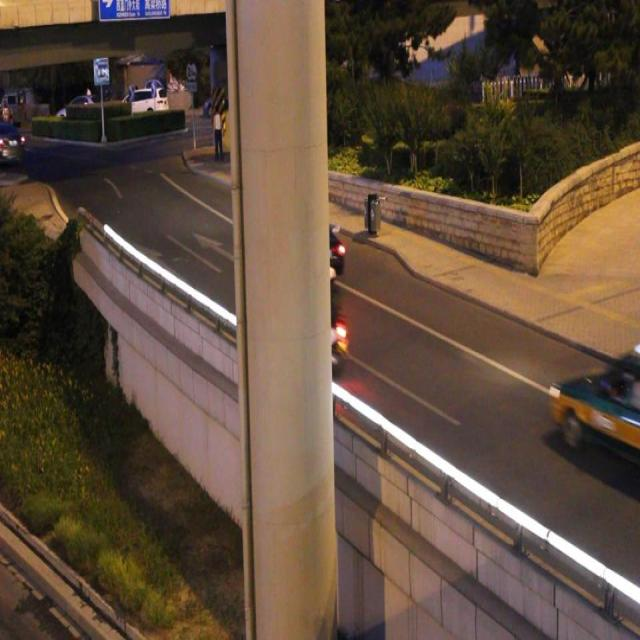car: (554, 357, 640, 458), (241, 212, 341, 288)
